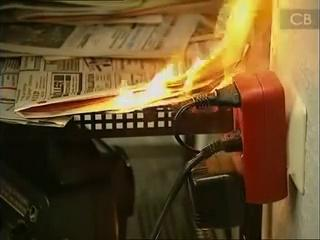Fire: (116, 1, 272, 117)
